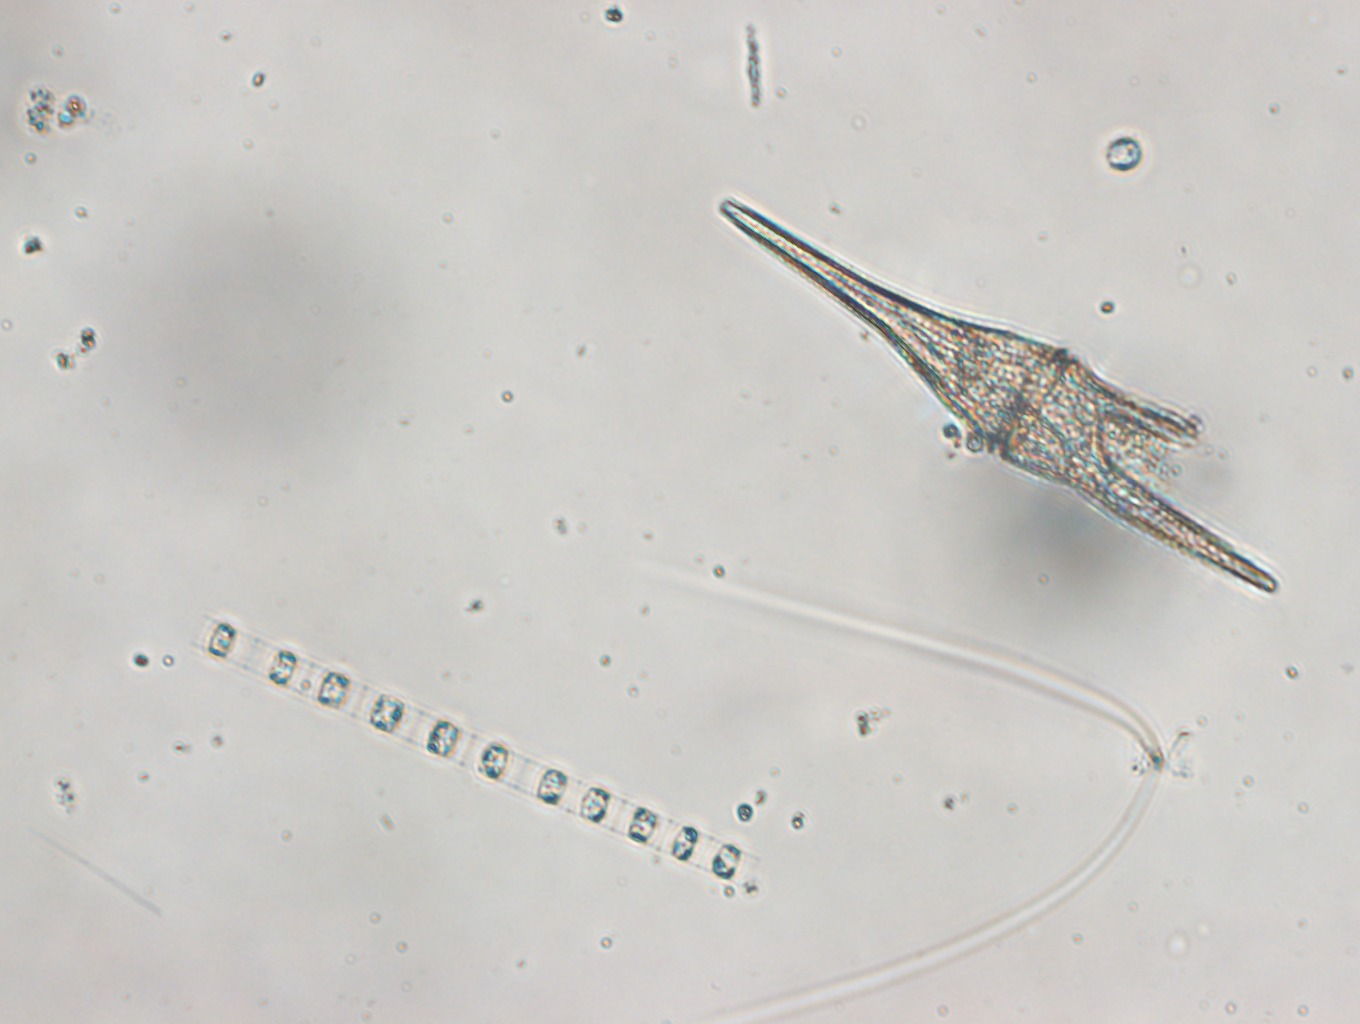ceratium furca: (715, 190, 1295, 606)
skeletonema: (187, 611, 763, 888)
